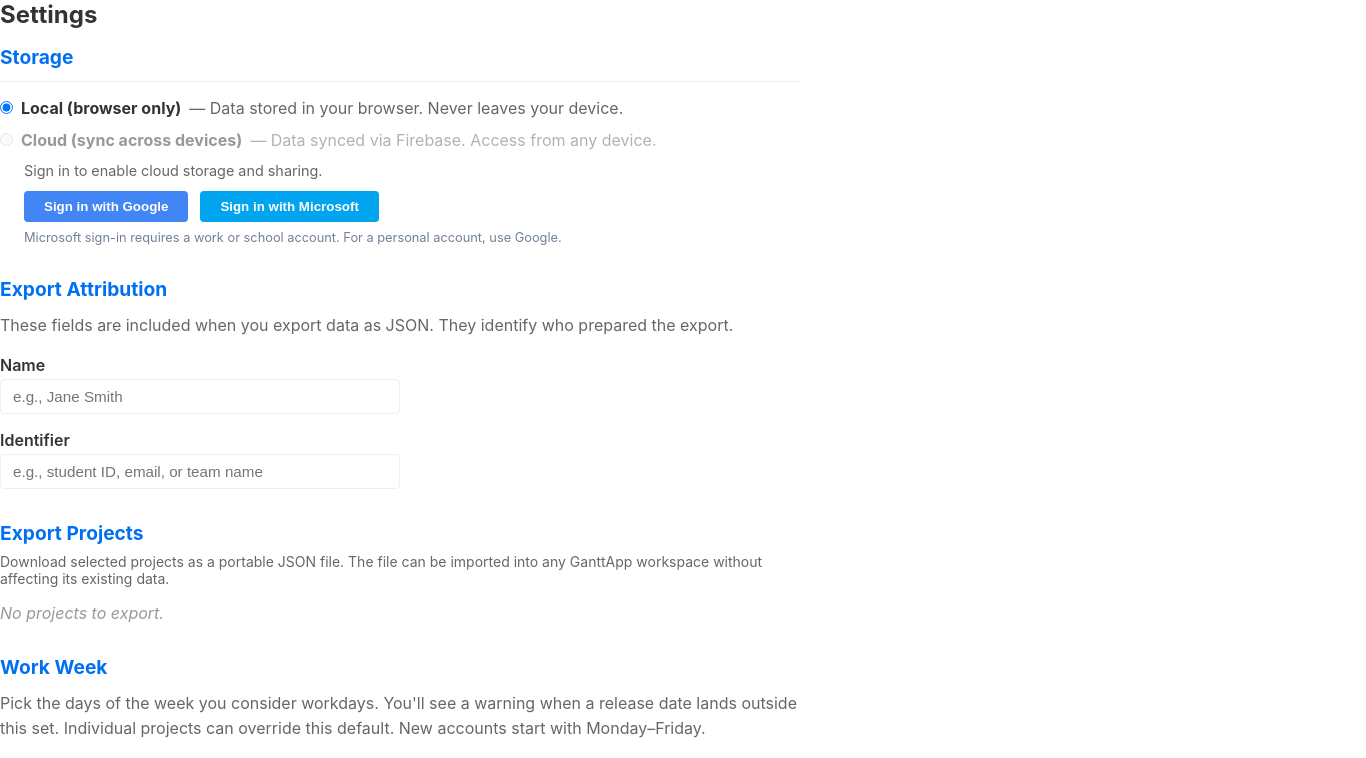
Test case: SettingsTab wiring › signing in › signs in with the chosen provider once the terms are accepted
This screenshot has width=1366, height=758.
Click the button "Sign in with Microsoft".
click(290, 206)  # box [200,191,379,222]
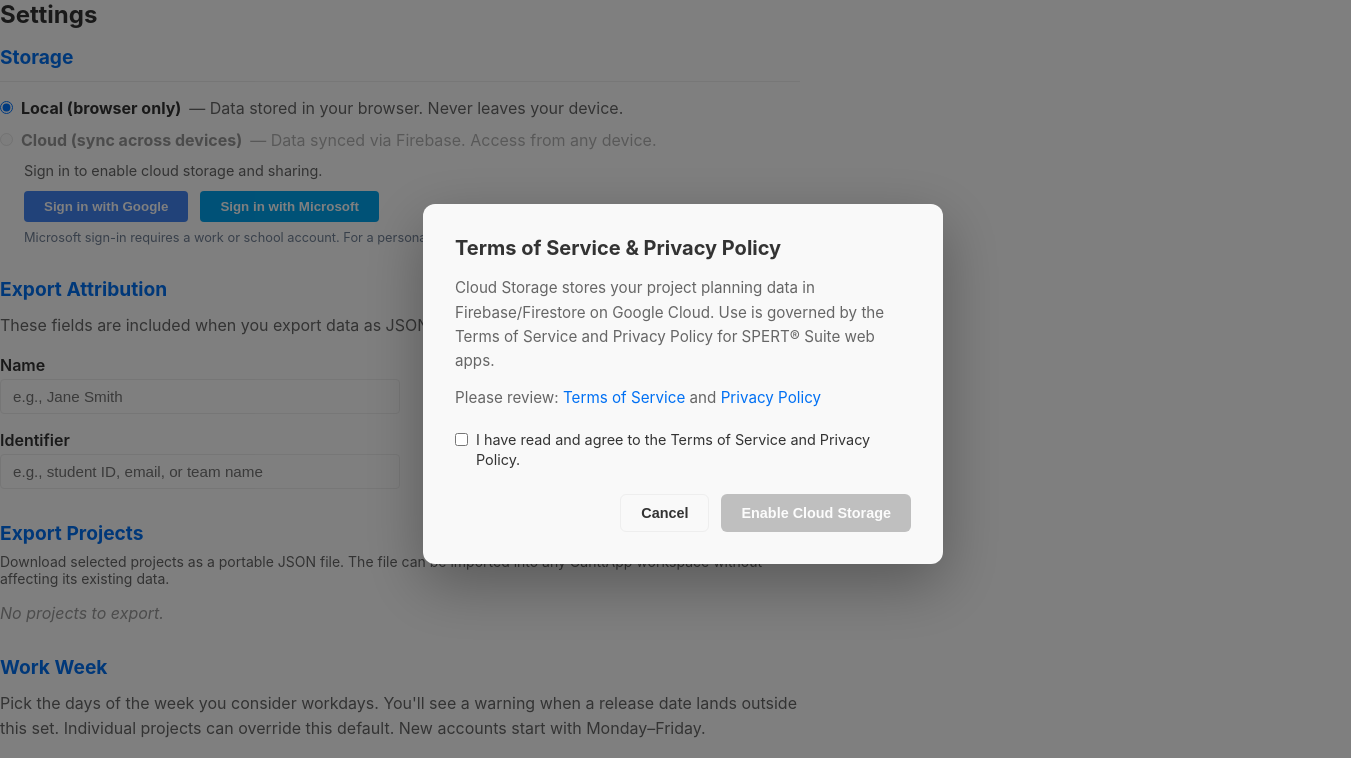
Expected: the heading "Terms of Service & Privacy Policy" is shown, [455,236,781,260]
Click the checkbox labelled "I have read and agree".
click(462, 440)  # box [455,433,468,446]
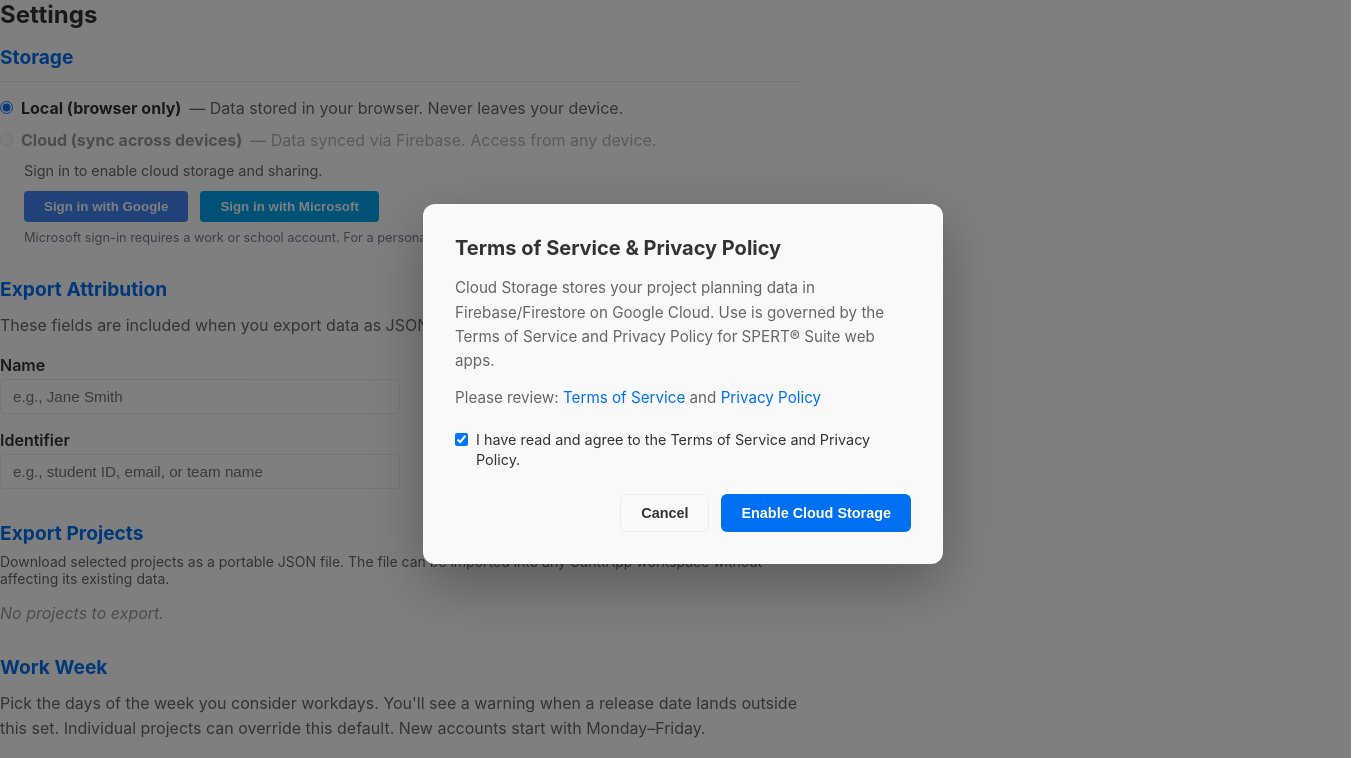
Click the button "Enable Cloud Storage".
click(816, 513)  # box [722,494,911,532]
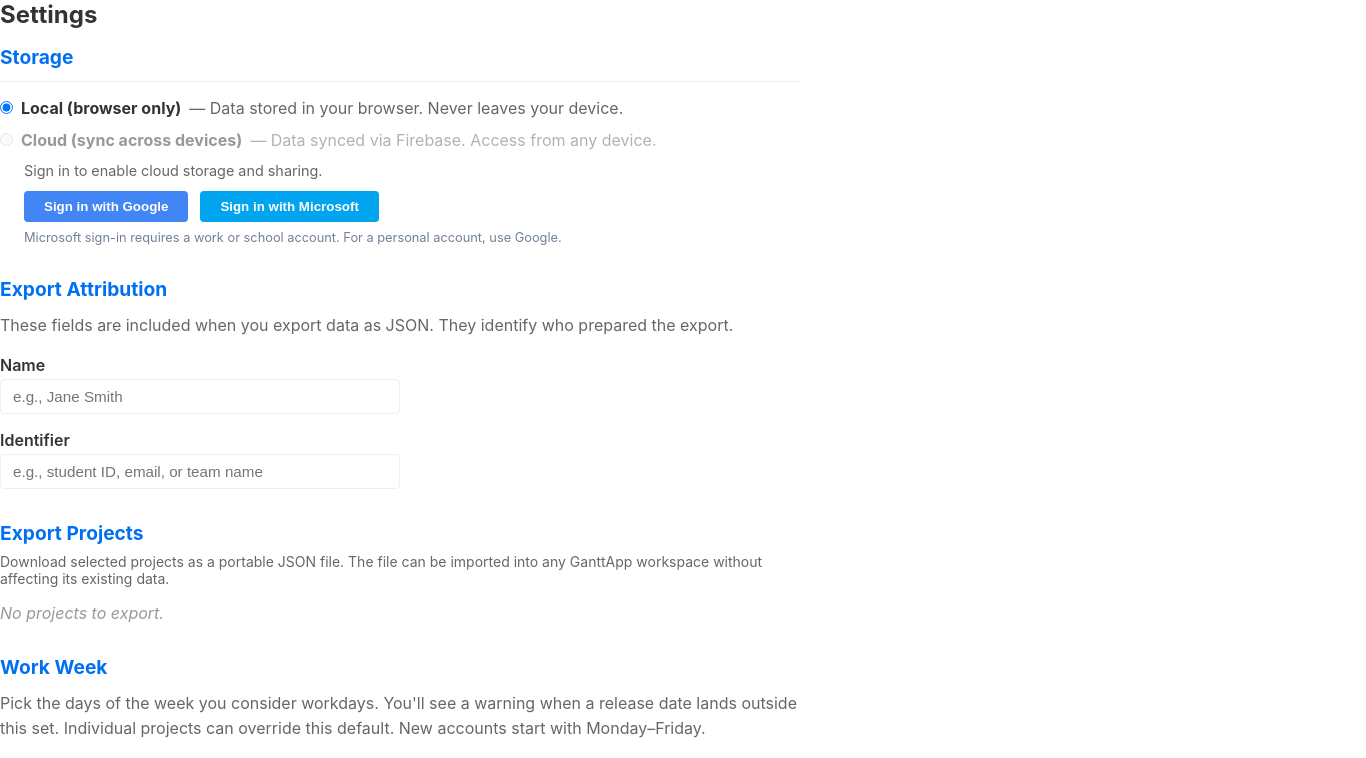
Expected: the heading "Terms of Service & Privacy Policy" is gone
